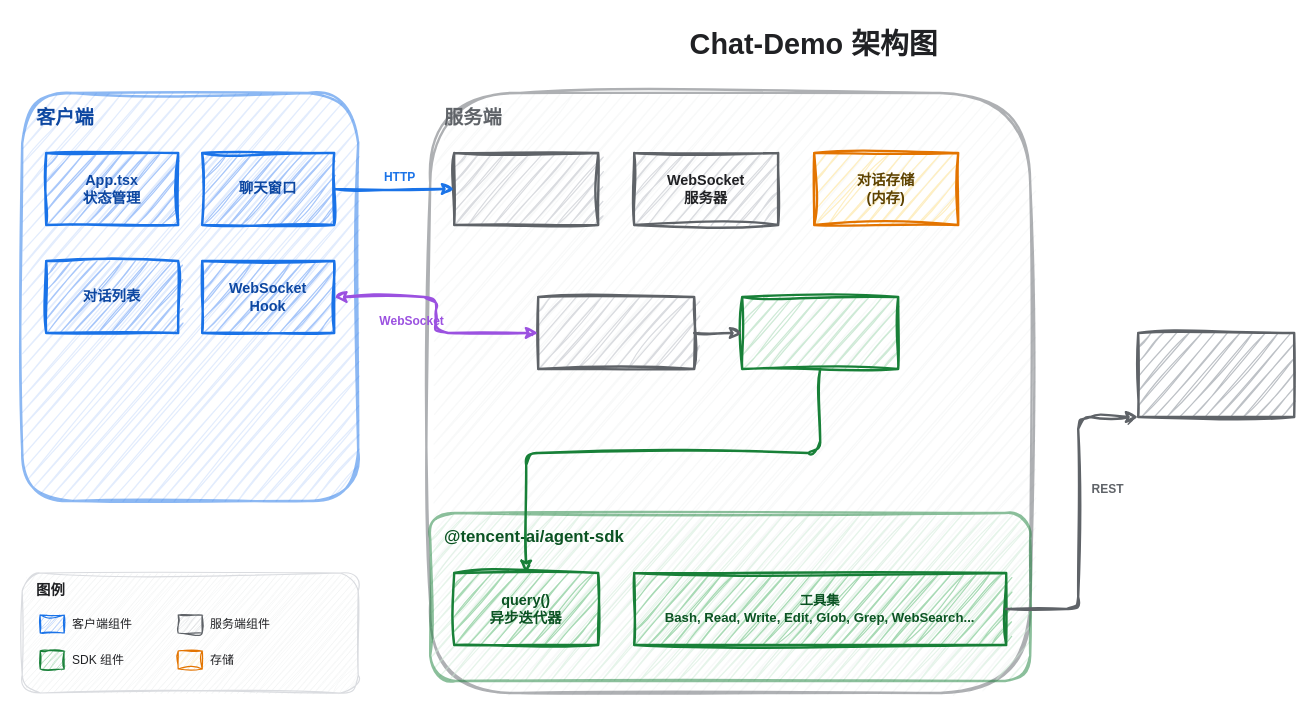
This 1315x714 diagram has some shape labels left out. The centre of each missing label's shape, as x and y in pixels:
AI 客户端 SDK 封装: the point at 819,332
CodeBuddy API 接口: the point at 1215,374
REST API /api/chats/*: the point at 525,188
会话管理器: the point at 615,332
